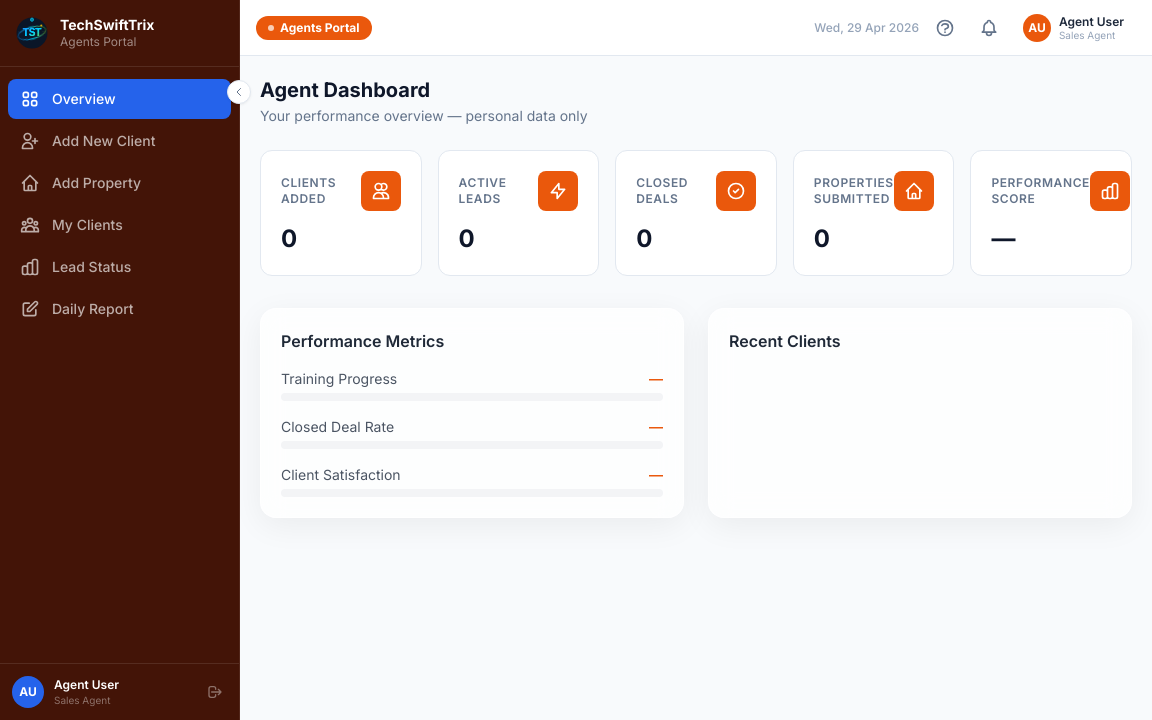
Test: AgentsPortal › navigates to capture client section
Click the button "Add New Client" at point(120, 140), box [8,120,231,160]
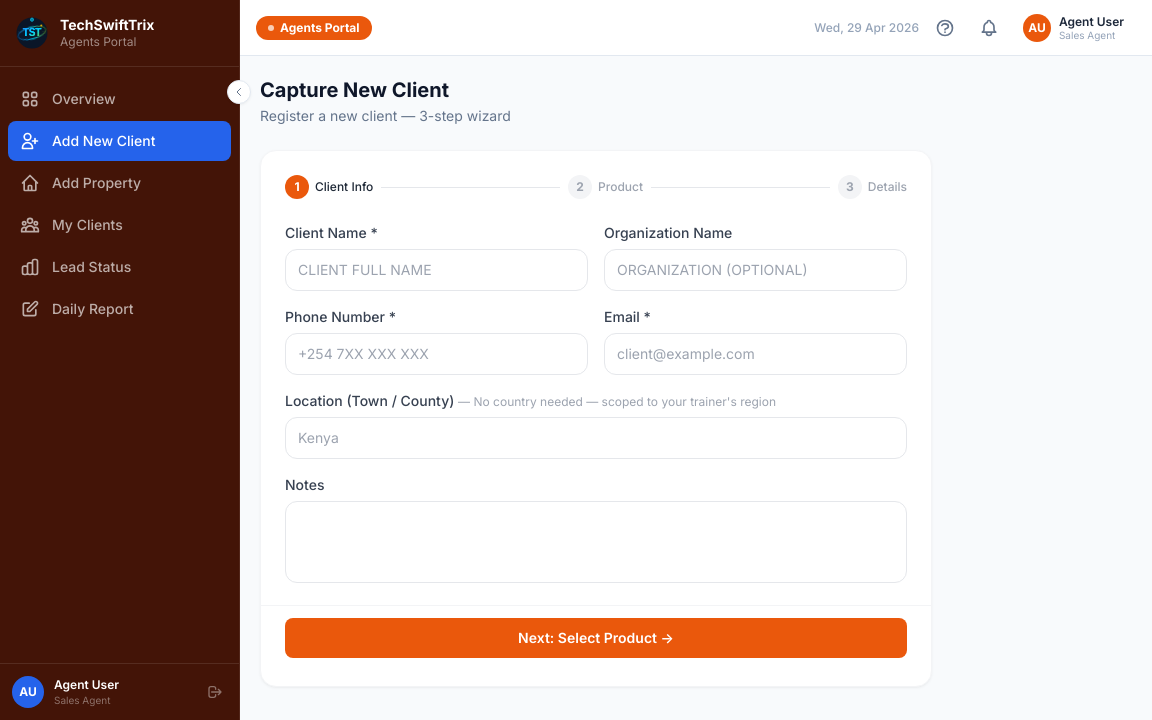
Expected: the heading "Capture New Client" is shown, [260,78,449,102]
